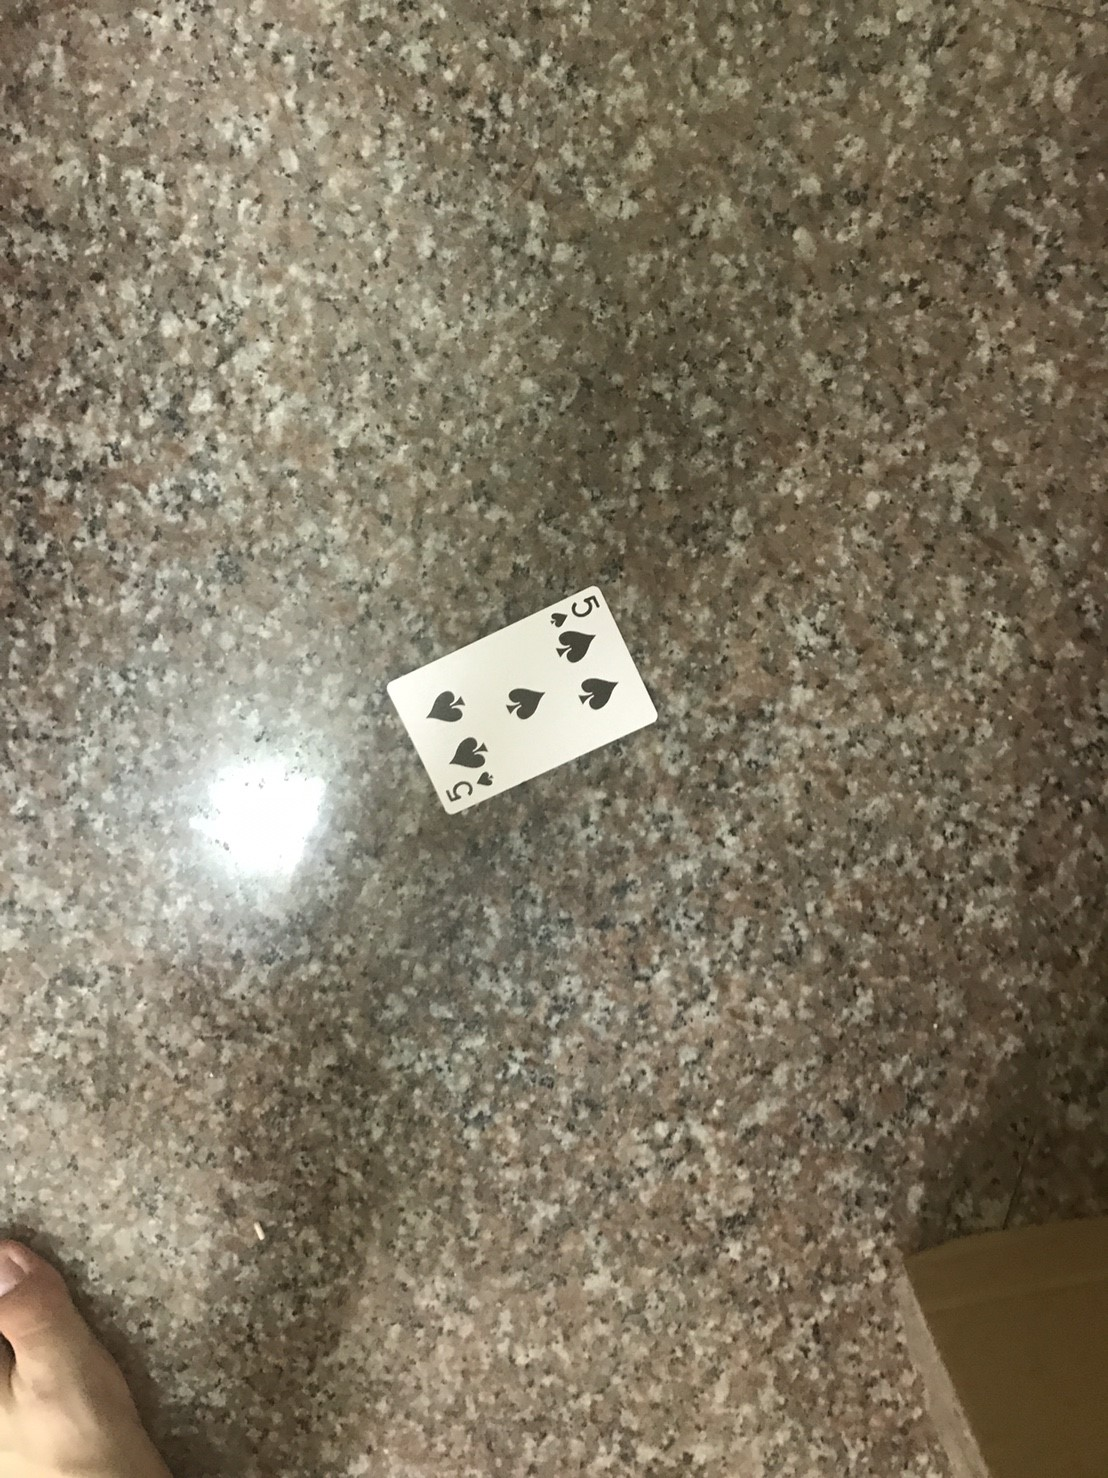spades: (571, 672, 620, 715), (441, 733, 498, 769), (425, 685, 467, 730), (504, 684, 546, 725), (552, 630, 599, 662), (545, 612, 575, 630), (471, 772, 497, 788)
